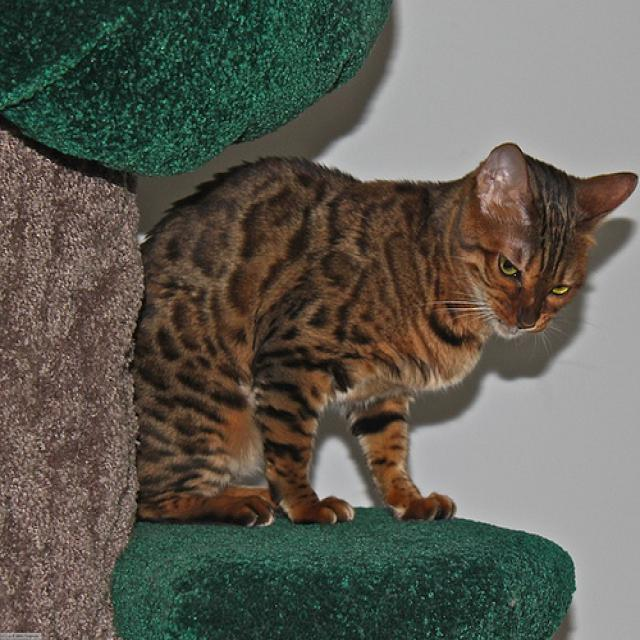Bengal: (457, 141, 636, 338)
